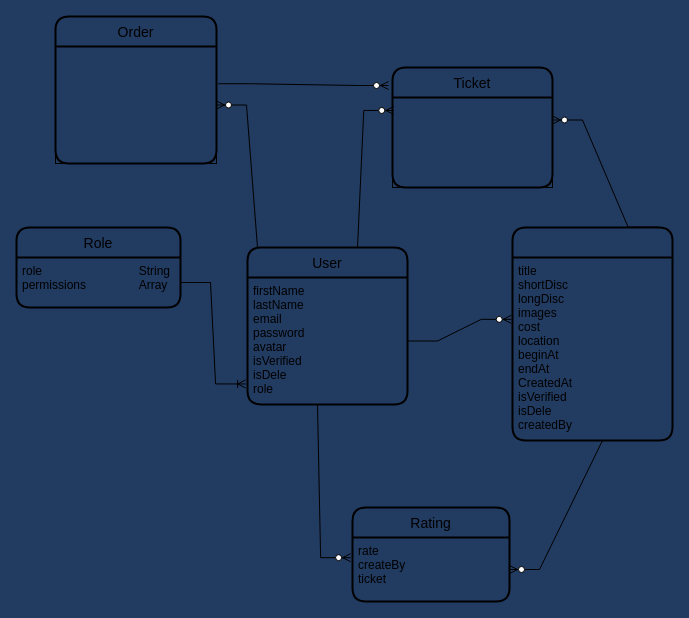
The diagram is 689 pixels wide and 618 high, and some of its shapes have lost their labels. Here are the shapes that lost their labels. From the top down, the box of each, then its label:
(54, 46, 216, 164): createBy createdAt tickets total isDele isVerified expired
(392, 96, 552, 188): createBy event isDele isVerified isExpired
(511, 226, 673, 441): Event
